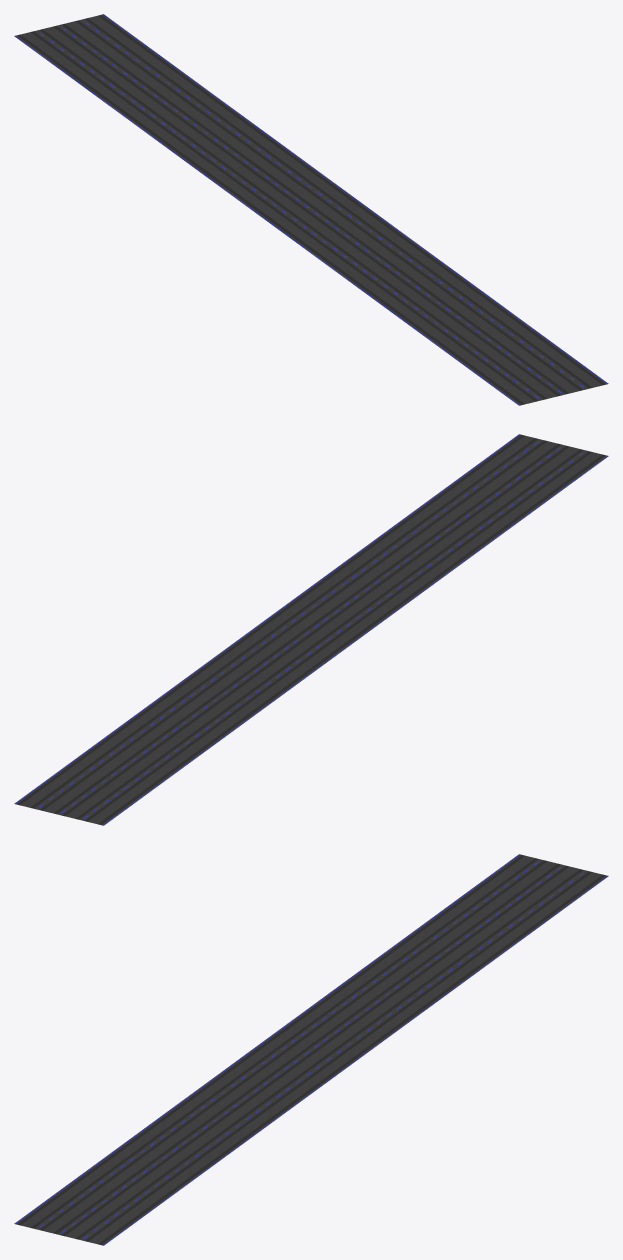
Rendered from 4 полосы  (4).fbx.
The picture shows the model from 3 angles, top to bottom: view 1: azimuth 30°, elevation 25°; view 2: azimuth 150°, elevation 25°; view 3: azimuth 330°, elevation 25°; orthographic projection.
Visible parts, largest first — view 1: Plane.; view 2: Plane.; view 3: Plane..
Boxes of the visible parts, x1,y1,x2,y2 form: Plane.: (14,14,608,405); Plane.: (14,434,608,825); Plane.: (14,854,608,1245).
Bounding box in the file's own units: 2002 × 1.42 × 19500.
